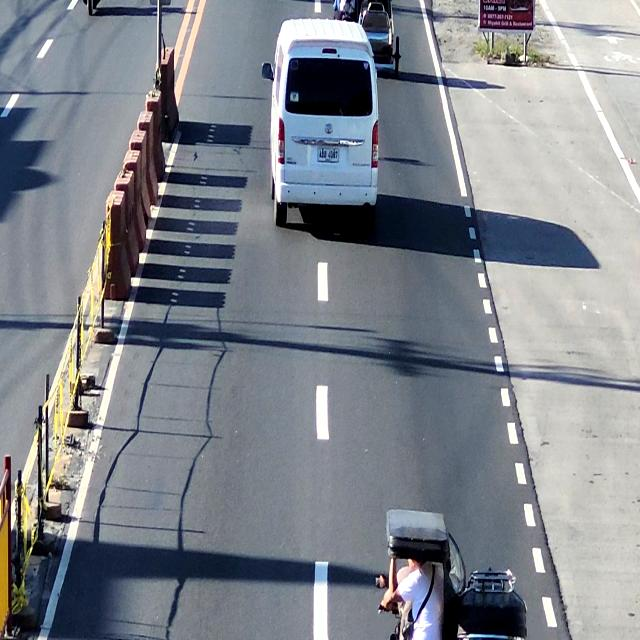Car: (271, 22, 374, 224)
License-Plate: (316, 144, 341, 170)
Tricycle: (378, 506, 528, 640), (331, 0, 405, 79)
